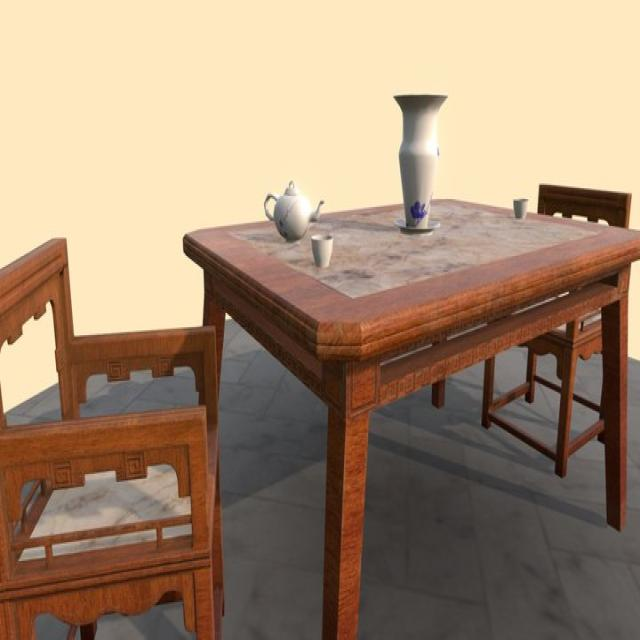chair: (0, 235, 225, 640), (482, 182, 631, 476)
table: (180, 200, 640, 640)
